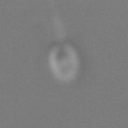normal: (42, 1, 65, 40)
